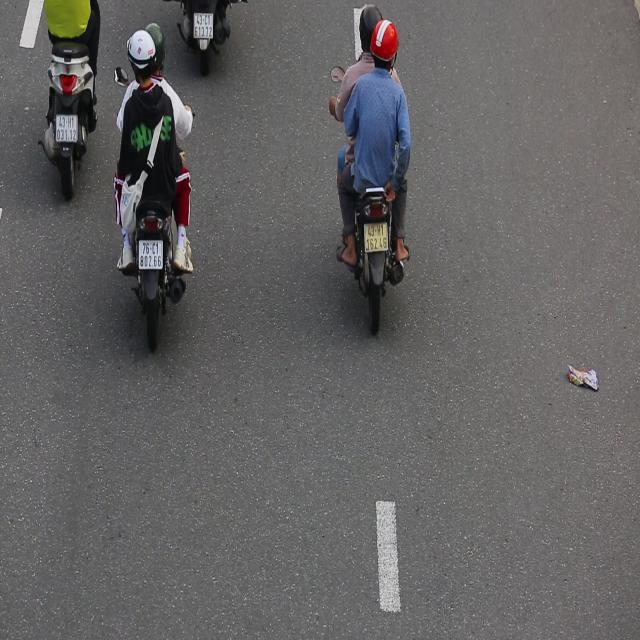motorbike: (324, 3, 416, 344), (109, 26, 199, 360)
